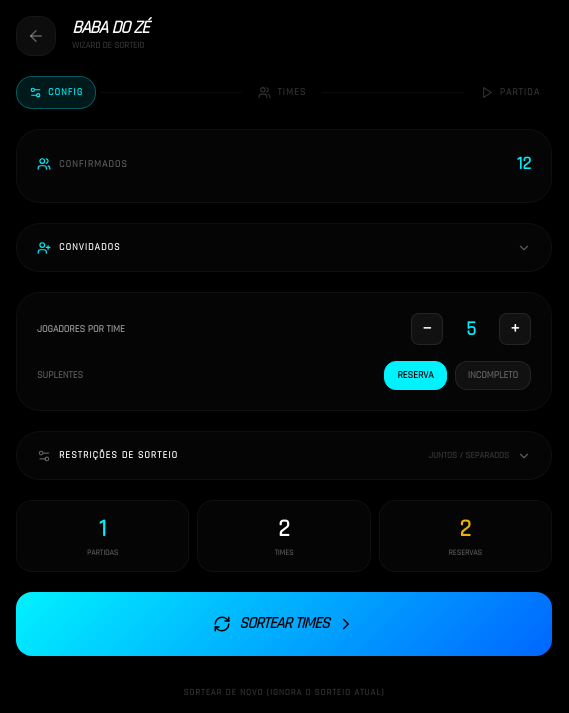
it: DrawPage — StepConfig › botão + aumenta playersPerTeam
Expected: the text "5" is shown, [466,316,476,342]
Click the button "+" at (515, 329), box [499,313,531,345]
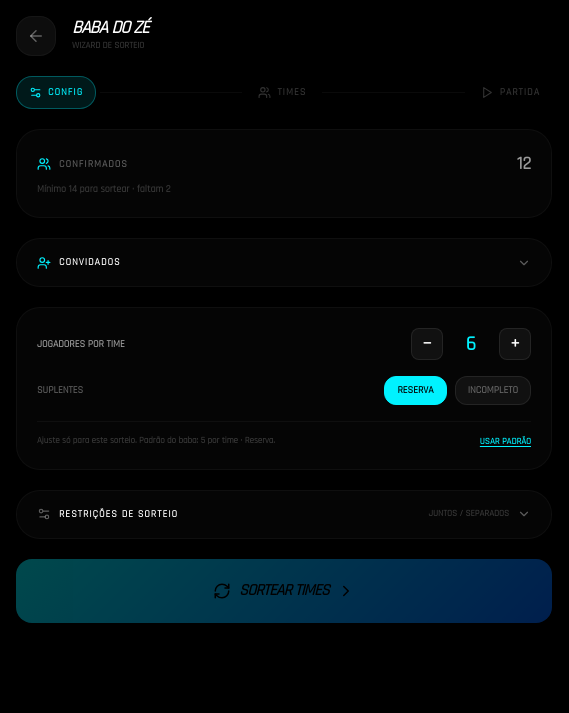
Expected: the text "6" is shown, [466,331,476,357]
